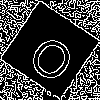O: (24, 25, 83, 86)
